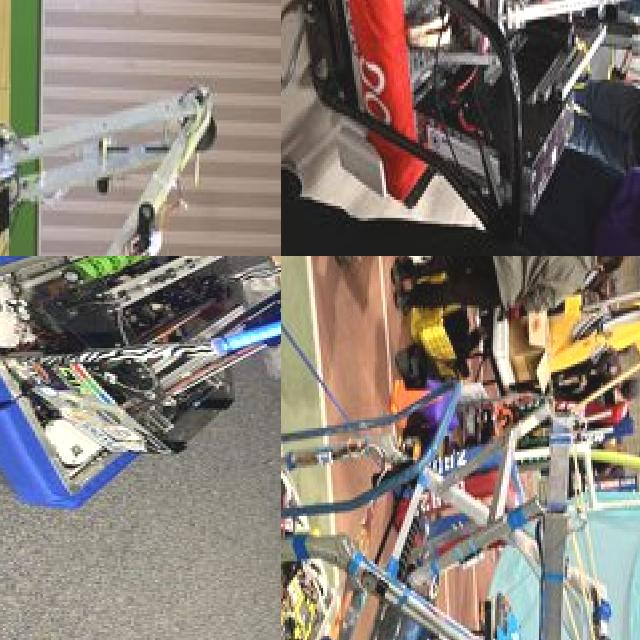FRC-Robots: (281, 345, 634, 640), (0, 256, 281, 544), (0, 0, 230, 256), (335, 0, 561, 224)
